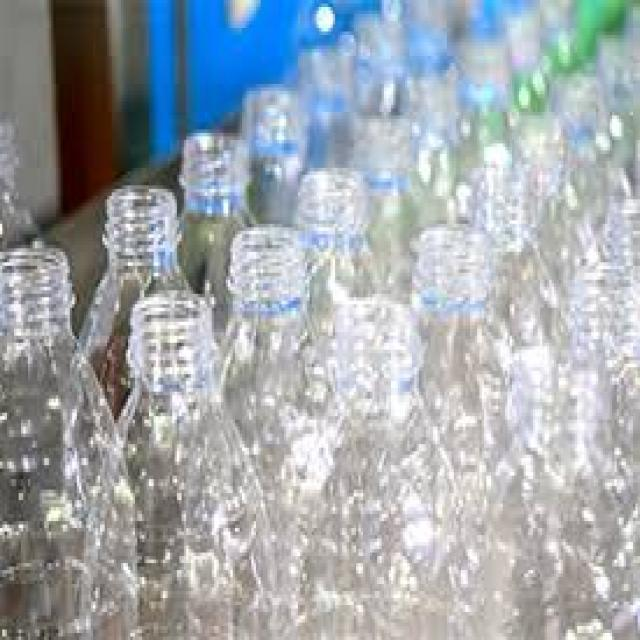Plastic: (79, 289, 280, 640), (285, 295, 477, 640), (0, 246, 139, 640), (76, 186, 228, 445)
